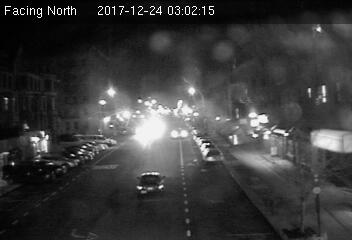car: (135, 172, 168, 197), (202, 148, 222, 163), (170, 128, 188, 139)
